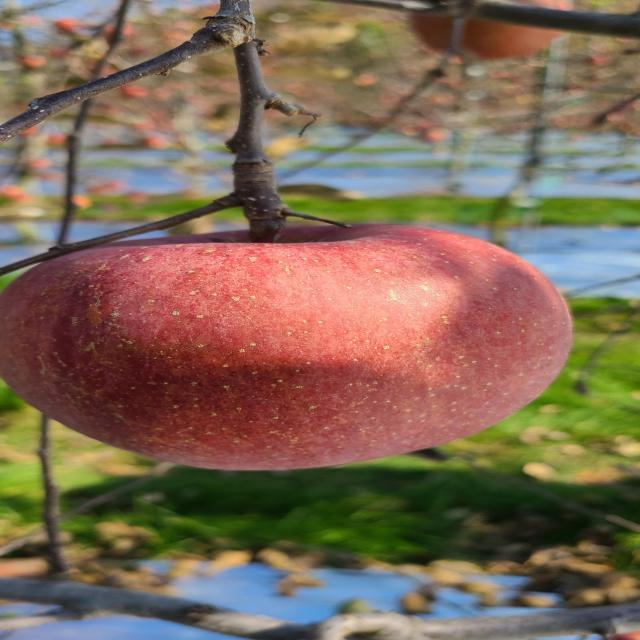fresh: (1, 210, 591, 479)
